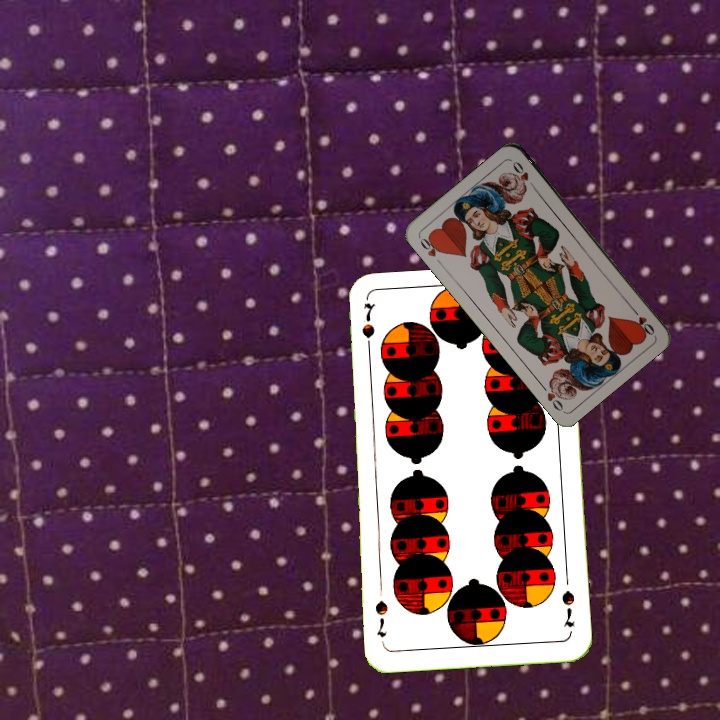HO: (415, 232, 445, 268), (627, 303, 657, 338)
S7: (358, 299, 378, 357), (557, 586, 577, 630)
